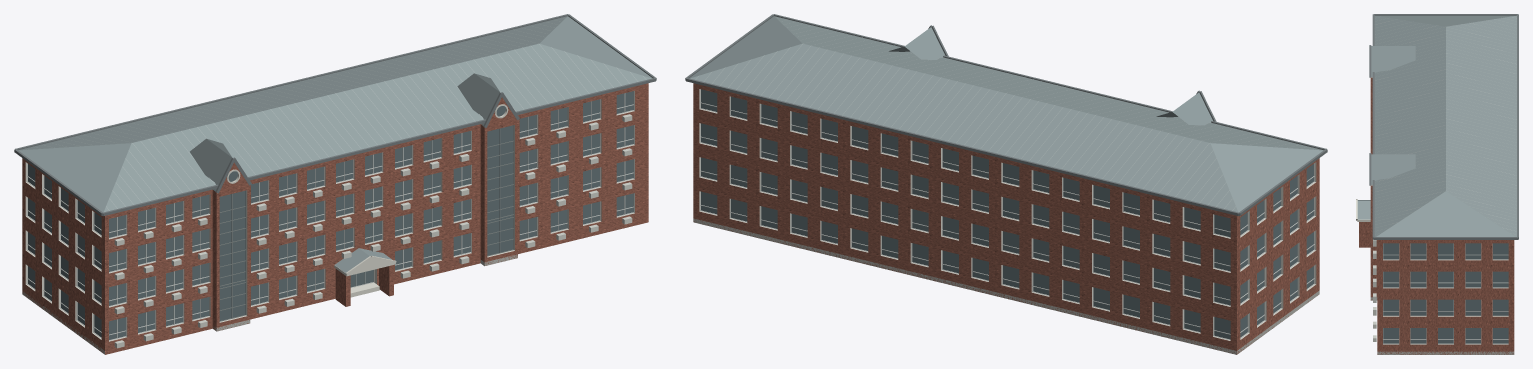
3 renders of one model, left to right at view 1: azimuth 30°, elevation 25°; view 2: azimuth 150°, elevation 25°; view 3: azimuth 270°, elevation 25°, orthographic. The views are drawn at different scales.
Parts seen in each view (by area): view 1: maeji-3__mainLowHipRoof, maeji-3__fourStoreyFront, maeji-3__fourStoreyFront__window, maeji-3__classroomFacades (×2), maeji-3__windowAndDoorFrames (×2), maeji-3__recessedOpeningReveals, maeji-3__wallAirConditioners, maeji-3__mainLowHipRoofFascia, maeji-3__stairCoreGlazing1__curtain, maeji-3__stairCoreGlazing0__curtain, maeji-3__mainLowHipRoofSeams, maeji-3__stairCrossGableRoofs (+5 smaller); view 2: maeji-3__classroomFacades (×2), maeji-3__mainLowHipRoof, maeji-3__windowAndDoorFrames, maeji-3__recessedOpeningReveals, maeji-3__mainLowHipRoofFascia, maeji-3__mainLowHipRoofSeams, maeji-3__originalFootprintFoundation, maeji-3__stairCrossGableRoofs; view 3: maeji-3__mainLowHipRoof, maeji-3__classroomFacades (×2), maeji-3__stairCrossGableRoofs, maeji-3__mainLowHipRoofFascia, maeji-3__windowAndDoorFrames, maeji-3__stairCoreBrickCheeks, maeji-3__originalFootprintFoundation, maeji-3__recessedOpeningReveals, maeji-3__mainLowHipRoofSeams, maeji-3__entranceBrickPiers, maeji-3__wallAirConditioners, maeji-3__entryRoof.
Part boxes in pixels (bbox=[...]): maeji-3__mainLowHipRoof: bbox=[18, 16, 652, 212]; maeji-3__fourStoreyFront: bbox=[105, 83, 648, 354]; maeji-3__fourStoreyFront__window: bbox=[109, 91, 633, 339]; maeji-3__classroomFacades (×2): bbox=[22, 124, 483, 352]; maeji-3__windowAndDoorFrames (×2): bbox=[27, 91, 634, 340]; maeji-3__recessedOpeningReveals: bbox=[25, 91, 634, 341]; maeji-3__wallAirConditioners: bbox=[114, 114, 632, 348]; maeji-3__mainLowHipRoofFascia: bbox=[14, 14, 656, 216]; maeji-3__stairCoreGlazing1__curtain: bbox=[487, 125, 513, 255]; maeji-3__stairCoreGlazing0__curtain: bbox=[219, 190, 245, 320]; maeji-3__mainLowHipRoofSeams: bbox=[25, 17, 645, 210]; maeji-3__stairCrossGableRoofs: bbox=[190, 73, 500, 190]; maeji-3__classroomFacades (×2): bbox=[693, 83, 1319, 354]; maeji-3__mainLowHipRoof: bbox=[689, 16, 1323, 212]; maeji-3__windowAndDoorFrames: bbox=[700, 89, 1314, 340]; maeji-3__recessedOpeningReveals: bbox=[699, 89, 1316, 340]; maeji-3__mainLowHipRoofFascia: bbox=[685, 14, 1327, 216]; maeji-3__mainLowHipRoofSeams: bbox=[696, 17, 1316, 210]; maeji-3__originalFootprintFoundation: bbox=[693, 218, 1319, 354]; maeji-3__stairCrossGableRoofs: bbox=[889, 27, 1212, 125]; maeji-3__mainLowHipRoof: bbox=[1374, 15, 1516, 236]; maeji-3__classroomFacades (×2): bbox=[1377, 240, 1514, 354]; maeji-3__stairCrossGableRoofs: bbox=[1371, 46, 1415, 184]; maeji-3__mainLowHipRoofFascia: bbox=[1372, 14, 1518, 239]; maeji-3__windowAndDoorFrames: bbox=[1383, 243, 1508, 344]; maeji-3__stairCoreBrickCheeks: bbox=[1370, 77, 1377, 300]; maeji-3__originalFootprintFoundation: bbox=[1377, 351, 1514, 354]; maeji-3__recessedOpeningReveals: bbox=[1371, 77, 1508, 344]; maeji-3__mainLowHipRoofSeams: bbox=[1375, 17, 1516, 231]; maeji-3__entranceBrickPiers: bbox=[1359, 222, 1370, 247]; maeji-3__wallAirConditioners: bbox=[1373, 239, 1376, 341]; maeji-3__entryRoof: bbox=[1357, 200, 1370, 219].
Size of the model in its own units: 61.32 by 17.92 by 18.86.
11 materials, 1 textured.
